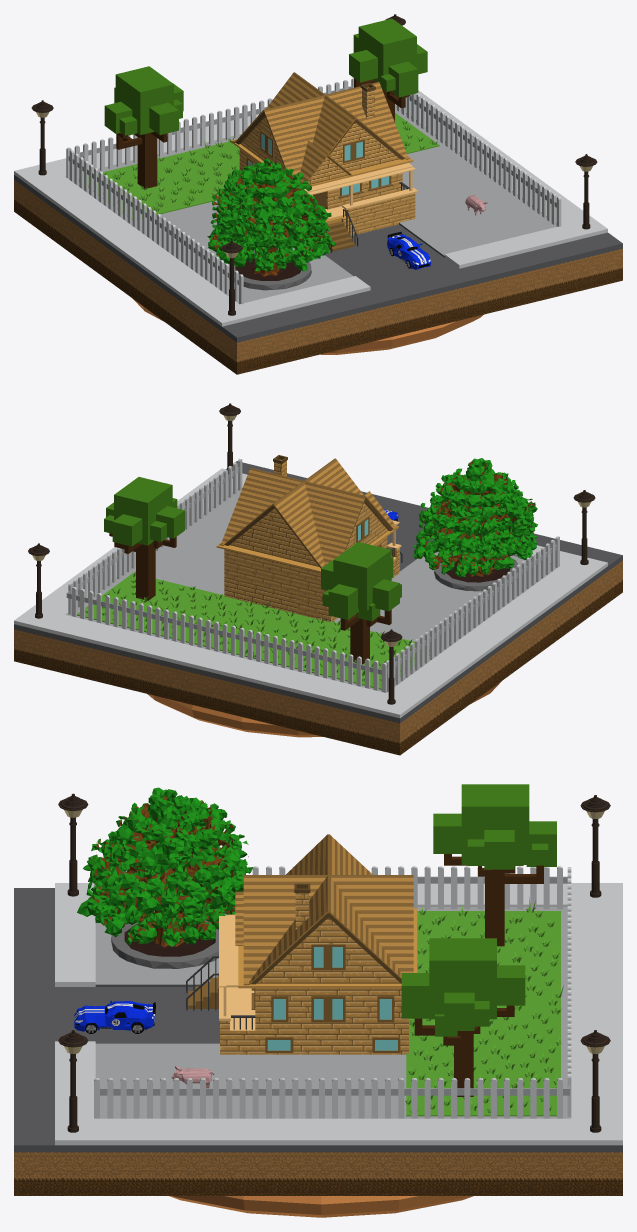
3 views of the same model, one above another, from view 1: azimuth 30°, elevation 25°; view 2: azimuth 150°, elevation 25°; view 3: azimuth 270°, elevation 25° (orthographic). The views are drawn at different scales.
Parts seen in each view (by area): view 1: Cube.004, Cube.508, OBJRANDOM_CEIBA, UNDERGROUND_PIZZA, VEHICLES_RACING_CAR; view 2: Cube.004, Cube.508, OBJRANDOM_CEIBA, UNDERGROUND_PIZZA; view 3: Cube.004, Cube.508, OBJRANDOM_CEIBA, UNDERGROUND_PIZZA, VEHICLES_RACING_CAR.
Boxes of the visible parts, bbox=[...] form: Cube.004: bbox=[14, 14, 622, 374]; Cube.508: bbox=[231, 72, 418, 252]; OBJRANDOM_CEIBA: bbox=[207, 158, 335, 290]; UNDERGROUND_PIZZA: bbox=[132, 298, 483, 354]; VEHICLES_RACING_CAR: bbox=[387, 232, 431, 269]; Cube.004: bbox=[14, 403, 622, 755]; Cube.508: bbox=[216, 455, 402, 622]; OBJRANDOM_CEIBA: bbox=[412, 458, 537, 591]; UNDERGROUND_PIZZA: bbox=[147, 681, 501, 737]; Cube.004: bbox=[14, 784, 622, 1195]; Cube.508: bbox=[186, 834, 417, 1054]; OBJRANDOM_CEIBA: bbox=[77, 787, 252, 968]; UNDERGROUND_PIZZA: bbox=[169, 1196, 473, 1217]; VEHICLES_RACING_CAR: bbox=[74, 1000, 155, 1033].
Size of the model in its own units: 4000 by 1812 by 4000.
40 materials, 4 textured.
